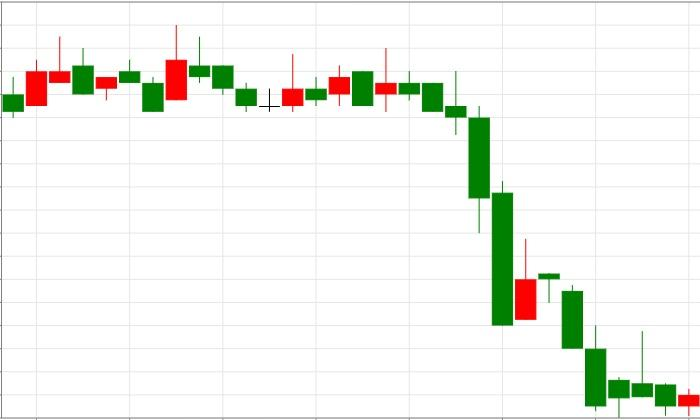morning_star_rise: (189, 36, 304, 112)
